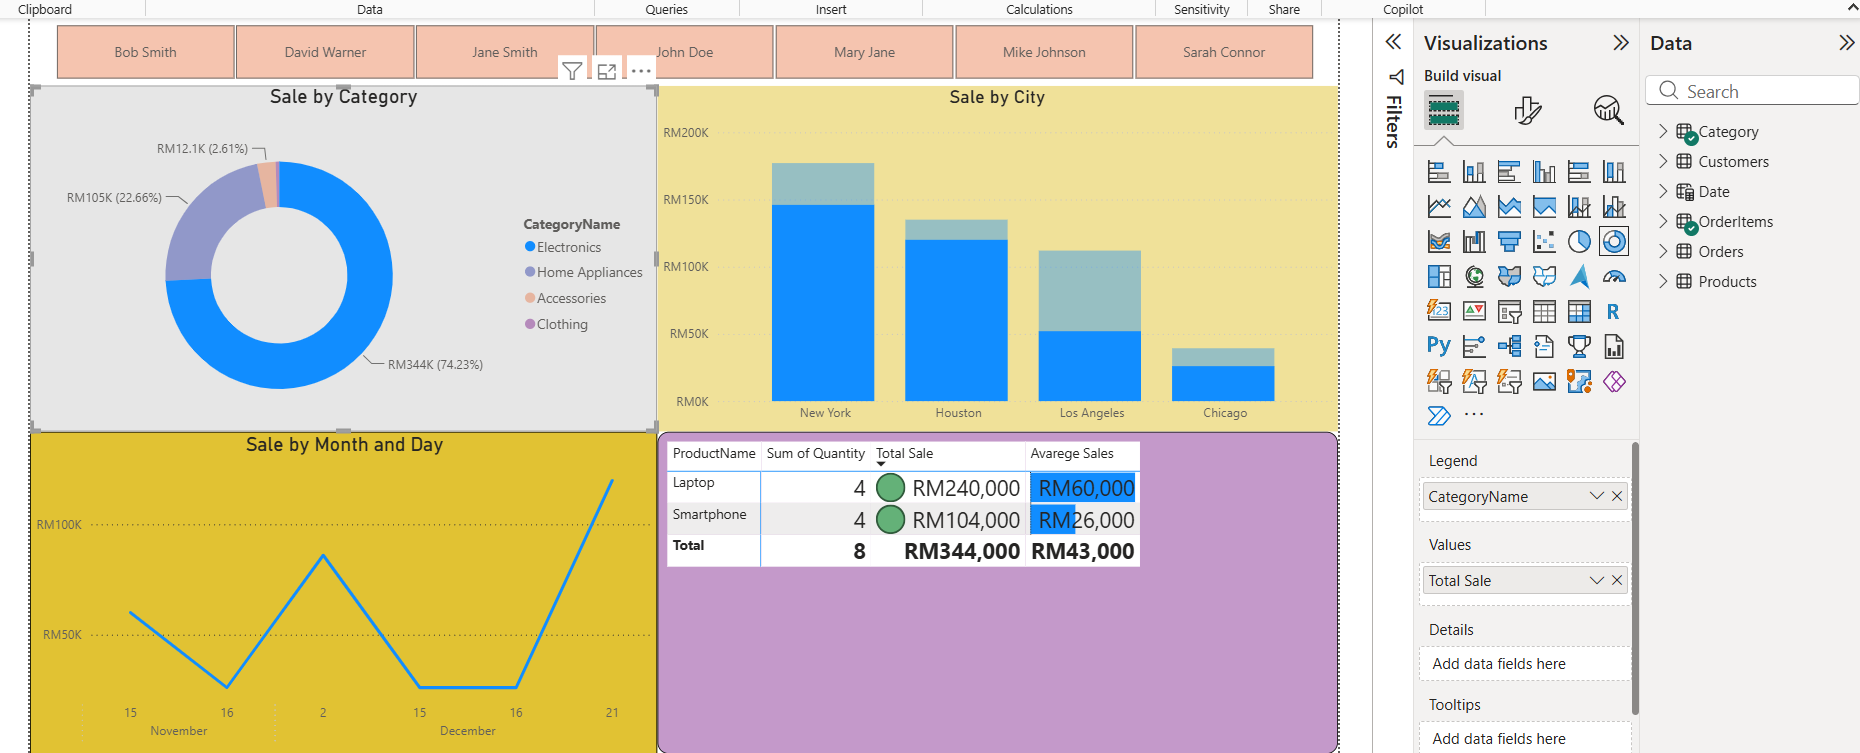

Layout of this report page (visuals, bound fields, positions):
{"tool":"powerbi","page":{"name":"Page 2","canvas":[1280,720],"ordinal":0},"visuals":[{"type":"clusteredColumnChart","title":" Sale by City","fields":{"Category":["Customers.City"],"Y":["OrderItems.Total Sale"]},"box":[613.9,66,665.2,338.7],"z":0},{"type":"donutChart","title":" Sale by Category","fields":{"Category":["Category.CategoryName"],"Y":["OrderItems.Total Sale"]},"box":[0,66,613.9,338.7],"z":1000},{"type":"lineChart","title":" Sale by Month and Day","fields":{"Category":["Date.Date.Variation.Date Hierarchy.Month","Date.Date.Variation.Date Hierarchy.Day"],"Y":["OrderItems.Total Sale"]},"box":[0,404.8,613.9,315.5],"z":2000},{"type":"pivotTable","title":"Sale by Product","fields":{"Rows":["Products.ProductName"],"Values":["Sum(OrderItems.Quantity)","OrderItems.Total Sale","OrderItems.Avarege Sales"]},"box":[613.9,404.8,665.2,315.5],"z":3000},{"type":"slicer","fields":{"Values":["Customers.CustomerName"]},"box":[0,0,1279.1,66],"z":3001}]}

Visuals, with their boxes in screenshot pixels (x1, y1, x2, y2):
" Sale by City" clusteredColumnChart: bbox=[651, 78, 1335, 426]
" Sale by Category" donutChart: bbox=[19, 78, 651, 426]
" Sale by Month and Day" lineChart: bbox=[19, 426, 651, 750]
"Sale by Product" pivotTable: bbox=[651, 426, 1335, 750]
slicer - Customers.CustomerName: bbox=[19, 10, 1335, 78]
